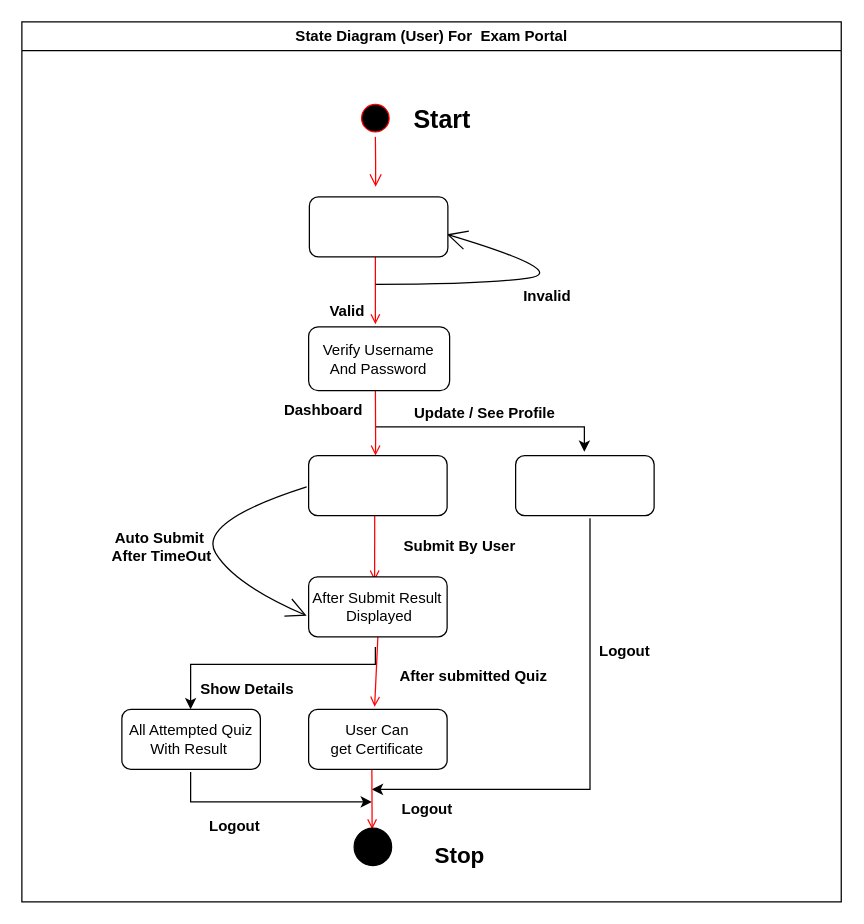
Some shapes in this 864 by 924 pixel diagram are drawn without their labels. The shapes that lost their labels are listed below. From the top down, each one's centre as x and y in pixels, then its label:
[378,226]: Login
[377,485]: Select Quiz By Category and start Exam
[584,485]: Can See / Update Profile Information
